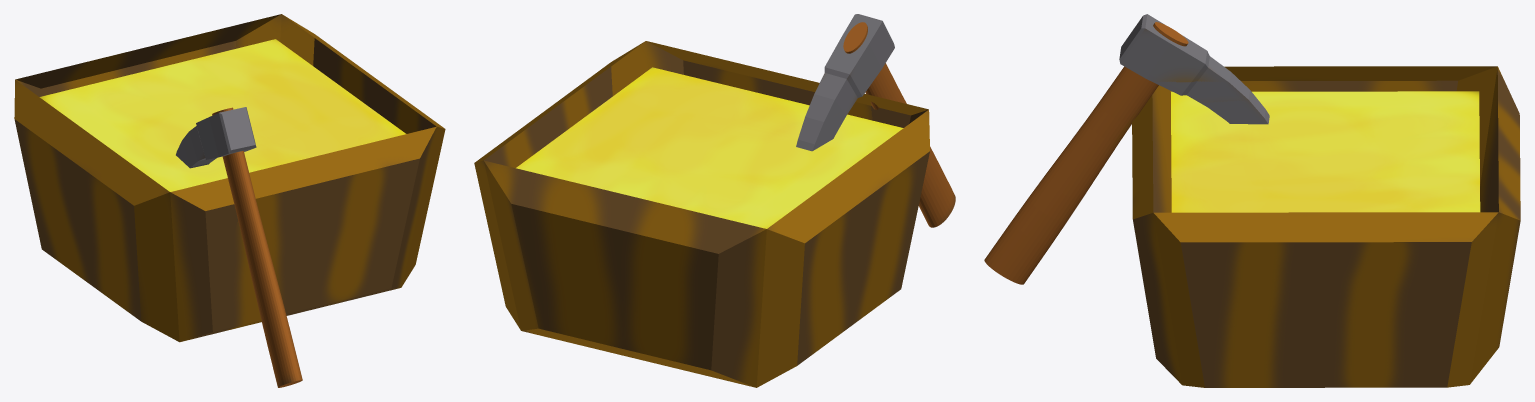
File: goldmine.fbx
3 renders of one model, left to right at view 1: azimuth 30°, elevation 25°; view 2: azimuth 150°, elevation 25°; view 3: azimuth 270°, elevation 25°, orthographic. The views are drawn at different scales.
Parts seen in each view (by area): view 1: Pickaxe; view 2: Pickaxe; view 3: Pickaxe.
Part boxes in pixels (x1,y1,x2,y2): Pickaxe: (14,14,445,387); Pickaxe: (474,14,955,387); Pickaxe: (984,14,1520,387).
Bounding box in the file's own units: 154 × 113 × 207.
